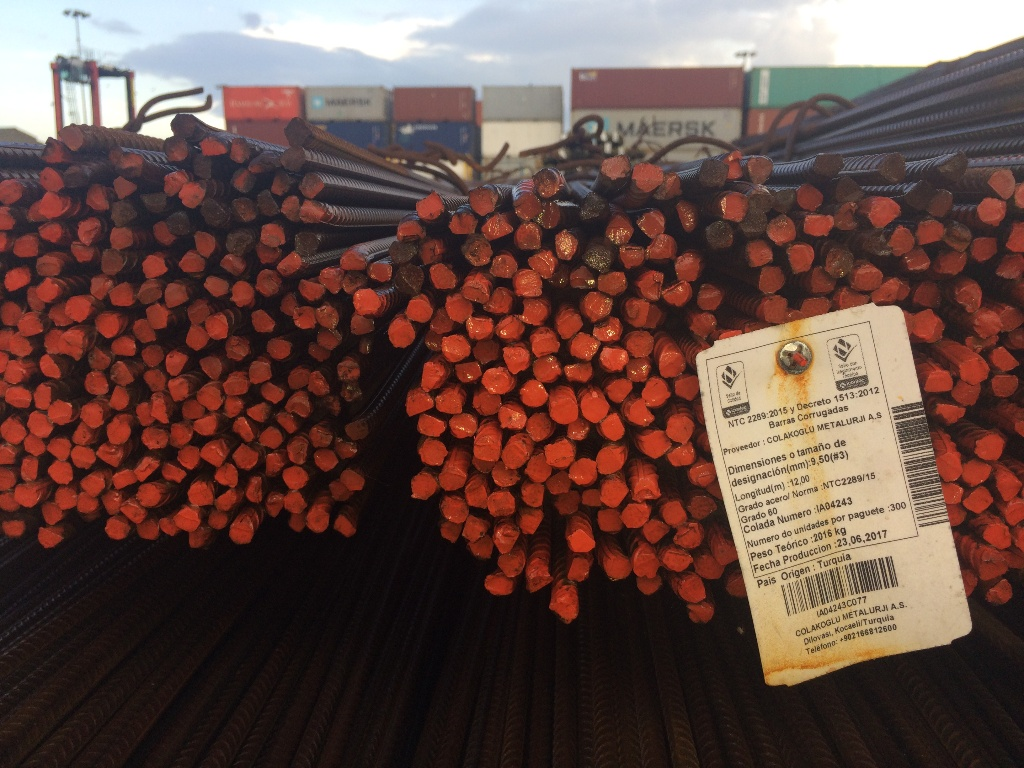dipstick: (868, 197, 900, 228), (767, 214, 796, 244), (606, 214, 634, 245), (826, 245, 853, 277), (468, 186, 497, 215), (395, 265, 423, 295), (705, 220, 733, 250), (939, 152, 969, 180), (285, 117, 312, 148), (551, 590, 577, 622), (464, 238, 492, 267), (519, 380, 548, 408), (987, 170, 1015, 199), (964, 486, 993, 514), (879, 152, 906, 182), (502, 438, 528, 469), (645, 236, 678, 260), (200, 440, 228, 468), (416, 192, 444, 220), (419, 437, 447, 465), (584, 292, 612, 320), (787, 244, 815, 272), (532, 328, 559, 357), (633, 164, 662, 191), (797, 182, 823, 212), (980, 549, 1006, 579), (906, 181, 931, 212), (933, 251, 966, 274), (533, 169, 560, 197), (442, 335, 470, 362), (580, 193, 608, 220), (601, 479, 628, 507), (666, 417, 694, 444), (637, 209, 665, 236), (699, 161, 727, 188), (747, 156, 774, 184), (758, 268, 786, 295), (913, 281, 940, 309), (495, 316, 524, 342), (583, 245, 612, 271), (722, 193, 748, 222), (835, 176, 864, 202), (978, 199, 1007, 225), (482, 215, 512, 240), (526, 563, 551, 593), (852, 265, 882, 290), (962, 461, 992, 486), (600, 156, 631, 180), (286, 391, 313, 418), (643, 378, 670, 405), (944, 223, 971, 250), (411, 472, 437, 500), (928, 189, 954, 217), (935, 455, 961, 483), (811, 155, 844, 177), (446, 293, 471, 322), (514, 192, 539, 221), (442, 494, 467, 523), (580, 397, 609, 422), (675, 525, 704, 550), (676, 253, 701, 282), (834, 202, 859, 231), (956, 283, 981, 312), (914, 220, 944, 244), (555, 229, 578, 260), (59, 331, 85, 358), (389, 320, 415, 347), (526, 456, 552, 483), (570, 458, 597, 484), (546, 440, 573, 466), (627, 331, 653, 358), (633, 552, 660, 578), (643, 432, 669, 459), (658, 352, 685, 378), (761, 297, 788, 323), (570, 335, 599, 359), (632, 478, 661, 502), (668, 443, 697, 467), (663, 282, 692, 306), (597, 272, 627, 295), (803, 214, 833, 237), (188, 481, 214, 507), (515, 271, 541, 297), (597, 448, 623, 474), (1, 417, 26, 444), (232, 444, 259, 469), (255, 269, 280, 296), (498, 553, 525, 578), (483, 368, 510, 393), (533, 356, 560, 381), (622, 503, 649, 528), (698, 284, 723, 311), (405, 391, 433, 415), (488, 492, 516, 516), (549, 399, 577, 423), (594, 318, 622, 342), (416, 416, 446, 438), (354, 289, 380, 314), (494, 527, 519, 553), (569, 529, 595, 554), (522, 300, 548, 325), (746, 242, 772, 267), (972, 236, 998, 261), (985, 524, 1011, 549), (180, 181, 204, 208), (531, 251, 555, 278), (526, 414, 550, 441), (605, 556, 632, 580), (872, 277, 896, 304), (516, 223, 539, 251), (421, 362, 444, 390), (449, 415, 477, 438), (600, 347, 628, 370), (640, 272, 663, 300), (658, 173, 681, 201), (890, 228, 913, 256), (960, 360, 988, 383), (975, 435, 1003, 458), (249, 152, 279, 173), (431, 264, 456, 289), (691, 312, 716, 337), (811, 267, 836, 292), (203, 199, 227, 225), (281, 146, 307, 170), (110, 360, 134, 386), (27, 411, 51, 437), (680, 579, 706, 603), (974, 312, 1000, 336), (95, 312, 118, 339), (460, 278, 487, 301), (490, 256, 517, 279), (439, 467, 466, 490), (688, 496, 716, 518), (676, 203, 697, 232), (38, 168, 63, 192), (232, 196, 256, 221), (49, 461, 73, 486), (168, 422, 192, 447), (224, 373, 249, 397), (555, 492, 580, 516), (675, 376, 700, 400), (163, 169, 186, 195), (226, 231, 252, 254), (488, 286, 511, 312), (474, 438, 500, 461), (628, 402, 654, 425), (663, 500, 686, 526), (697, 557, 723, 580), (986, 580, 1012, 603), (473, 394, 500, 416), (504, 347, 526, 374), (997, 255, 1024, 277), (953, 383, 980, 405), (396, 221, 425, 241), (840, 289, 869, 309), (913, 310, 933, 339), (232, 170, 256, 194), (164, 283, 188, 307), (87, 347, 111, 371), (142, 344, 166, 368), (225, 337, 249, 361), (175, 507, 199, 531), (407, 297, 431, 321), (462, 517, 486, 541), (520, 510, 544, 534), (300, 173, 323, 198), (341, 247, 366, 270), (4, 266, 27, 291), (6, 386, 31, 409), (178, 445, 201, 470), (283, 467, 308, 490), (314, 449, 337, 474), (602, 415, 625, 440), (607, 379, 632, 402), (571, 266, 596, 289), (688, 463, 713, 486), (992, 374, 1017, 397), (232, 281, 254, 307), (390, 241, 416, 263), (747, 188, 773, 210), (741, 212, 767, 234), (194, 229, 215, 256), (87, 183, 108, 210), (287, 437, 308, 464), (467, 482, 488, 509), (493, 466, 520, 487), (449, 213, 477, 233), (471, 342, 499, 362), (664, 552, 692, 572), (802, 296, 830, 316), (172, 113, 195, 137), (300, 202, 324, 225), (77, 219, 101, 242), (111, 283, 134, 307), (147, 304, 170, 328), (198, 387, 222, 410), (317, 305, 340, 329), (558, 315, 582, 338), (598, 509, 621, 533), (999, 306, 1022, 330), (992, 348, 1016, 371), (111, 202, 136, 224), (278, 253, 303, 275), (14, 235, 39, 257), (81, 403, 103, 428), (107, 419, 129, 444), (80, 473, 105, 495), (105, 518, 130, 540), (216, 464, 238, 489), (230, 520, 252, 545), (432, 307, 454, 332), (467, 318, 492, 340), (774, 188, 796, 213), (185, 326, 206, 352), (142, 428, 168, 449), (437, 393, 463, 414), (500, 408, 526, 429), (904, 250, 931, 270), (1006, 222, 1024, 252), (1, 300, 20, 328), (245, 477, 264, 505), (136, 457, 159, 480), (248, 361, 271, 384), (137, 485, 160, 508), (122, 501, 145, 524), (252, 309, 275, 332), (627, 358, 650, 381), (620, 245, 643, 268), (998, 477, 1021, 500), (42, 139, 64, 163), (170, 212, 192, 236), (295, 233, 319, 255), (143, 256, 167, 278), (36, 255, 60, 277), (233, 418, 255, 442), (258, 427, 282, 449), (645, 522, 669, 544), (151, 394, 169, 423), (116, 156, 142, 176), (297, 279, 323, 299), (539, 202, 559, 228), (568, 557, 588, 583), (265, 492, 284, 519), (566, 362, 593, 381), (925, 372, 952, 391), (937, 406, 967, 423), (110, 227, 133, 249), (20, 314, 43, 336), (143, 368, 165, 391), (522, 484, 544, 507), (548, 471, 571, 493), (165, 137, 186, 161), (230, 139, 251, 163), (50, 400, 71, 424), (86, 371, 107, 395), (165, 351, 186, 375), (71, 447, 95, 468), (194, 415, 218, 436), (307, 509, 328, 533), (628, 300, 646, 328), (63, 125, 83, 150), (41, 193, 61, 218), (102, 250, 122, 275), (4, 360, 24, 385), (455, 362, 480, 382), (140, 194, 166, 213), (321, 267, 340, 293), (485, 576, 511, 595), (271, 174, 293, 196), (51, 304, 73, 326), (200, 357, 222, 379), (98, 444, 120, 466), (49, 438, 71, 460), (284, 491, 306, 513), (294, 307, 316, 329), (1, 181, 22, 204), (309, 426, 332, 447), (343, 272, 366, 293), (335, 515, 356, 538), (64, 167, 88, 187), (258, 190, 278, 214), (261, 225, 285, 245), (205, 276, 229, 296), (168, 377, 188, 401), (309, 371, 329, 395), (337, 361, 361, 381), (318, 329, 342, 349), (420, 240, 440, 264), (265, 339, 290, 358), (155, 218, 173, 244), (33, 384, 51, 410), (38, 529, 64, 547), (39, 221, 61, 242), (188, 302, 209, 324), (15, 486, 37, 507), (56, 488, 77, 510), (189, 527, 211, 548), (717, 542, 738, 564), (940, 483, 962, 504), (180, 252, 203, 272), (68, 297, 88, 320), (138, 283, 161, 303), (206, 315, 226, 338), (113, 469, 136, 489), (470, 538, 493, 558), (162, 462, 186, 481), (70, 243, 95, 261), (350, 317, 375, 335), (200, 138, 226, 155), (728, 572, 745, 598), (11, 335, 32, 356), (215, 490, 236, 511), (370, 261, 391, 282), (136, 519, 158, 539), (288, 367, 308, 389), (343, 469, 363, 491), (194, 157, 213, 180), (91, 276, 110, 299), (103, 491, 122, 514), (182, 400, 205, 419), (248, 403, 271, 422), (316, 398, 339, 417), (136, 401, 154, 425), (265, 453, 283, 477), (283, 196, 300, 221), (221, 256, 246, 273), (40, 356, 60, 377), (77, 494, 98, 514), (336, 439, 357, 459), (727, 151, 742, 179), (135, 320, 154, 342), (308, 343, 330, 362), (441, 523, 463, 542), (566, 422, 588, 441), (690, 605, 712, 624), (262, 384, 285, 402), (637, 579, 661, 596), (43, 328, 59, 353), (25, 436, 46, 455), (42, 504, 61, 525), (277, 413, 296, 434), (346, 420, 368, 438), (329, 483, 351, 501), (943, 506, 965, 524), (256, 246, 280, 262), (22, 458, 38, 482), (224, 398, 243, 418), (27, 198, 41, 225), (111, 388, 129, 409), (74, 427, 95, 445), (552, 264, 569, 286), (28, 289, 44, 312), (115, 179, 135, 197), (1, 492, 18, 513), (1, 469, 16, 492), (39, 280, 56, 300), (341, 383, 361, 400), (281, 293, 297, 314), (932, 318, 945, 343), (582, 490, 600, 508), (647, 306, 661, 329), (4, 520, 25, 535), (159, 518, 177, 535), (209, 513, 227, 530), (289, 513, 306, 531), (472, 459, 493, 473), (426, 333, 441, 351), (1, 449, 16, 465), (109, 145, 123, 161), (1, 329, 10, 349), (360, 340, 369, 353)
